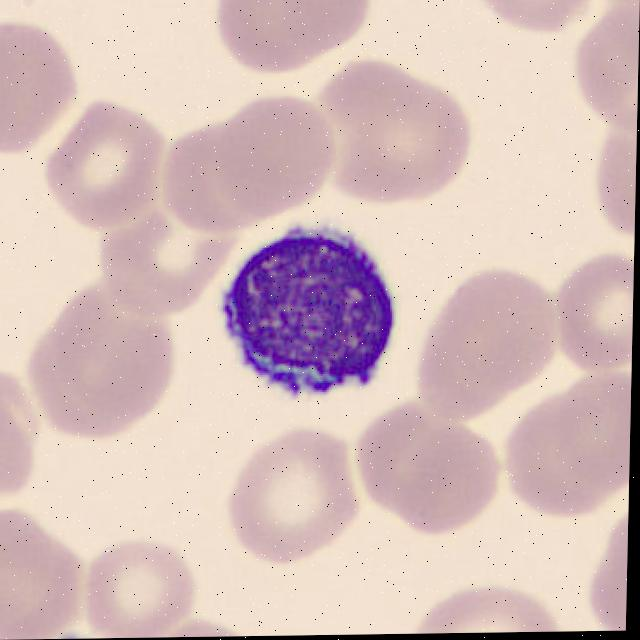lymphocyte: (217, 222, 412, 404)
rbc: (7, 291, 176, 448), (218, 76, 339, 218), (228, 437, 356, 566), (49, 101, 160, 236), (320, 71, 431, 205), (99, 196, 217, 322), (445, 271, 560, 400), (511, 403, 612, 532), (0, 15, 87, 150), (90, 532, 197, 638), (166, 135, 265, 249), (210, 0, 372, 69), (346, 395, 444, 509), (399, 431, 505, 533), (407, 321, 514, 419), (381, 94, 474, 203), (0, 515, 79, 636), (582, 0, 640, 156), (553, 378, 631, 492), (558, 257, 634, 372), (420, 585, 565, 634), (0, 371, 49, 497), (582, 141, 637, 240), (472, 0, 601, 40), (588, 521, 628, 629), (166, 611, 240, 637)
